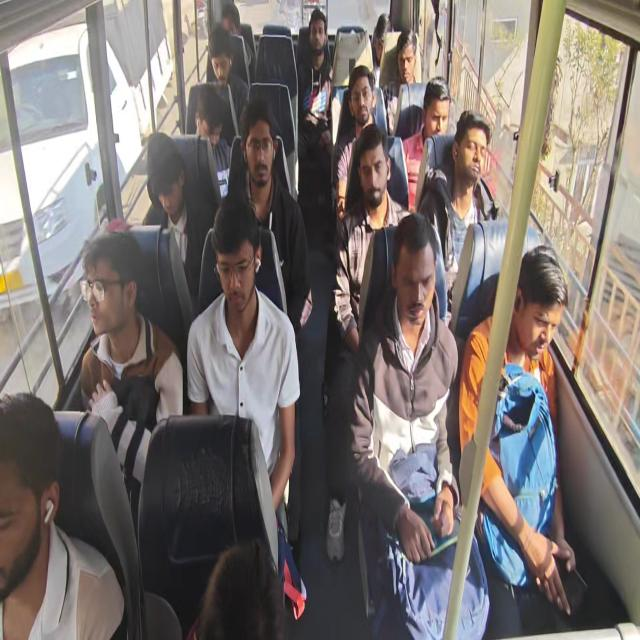person: (73, 7, 578, 637), (346, 211, 491, 638), (459, 244, 576, 621), (322, 123, 414, 562), (186, 196, 300, 536), (79, 220, 183, 534), (0, 390, 126, 638), (225, 98, 312, 335), (417, 109, 497, 312), (146, 130, 208, 318), (192, 538, 289, 638), (296, 8, 334, 220), (399, 75, 452, 210), (332, 64, 377, 220), (206, 23, 249, 146), (194, 85, 231, 199), (386, 29, 421, 135), (370, 12, 389, 87), (395, 29, 419, 85)
